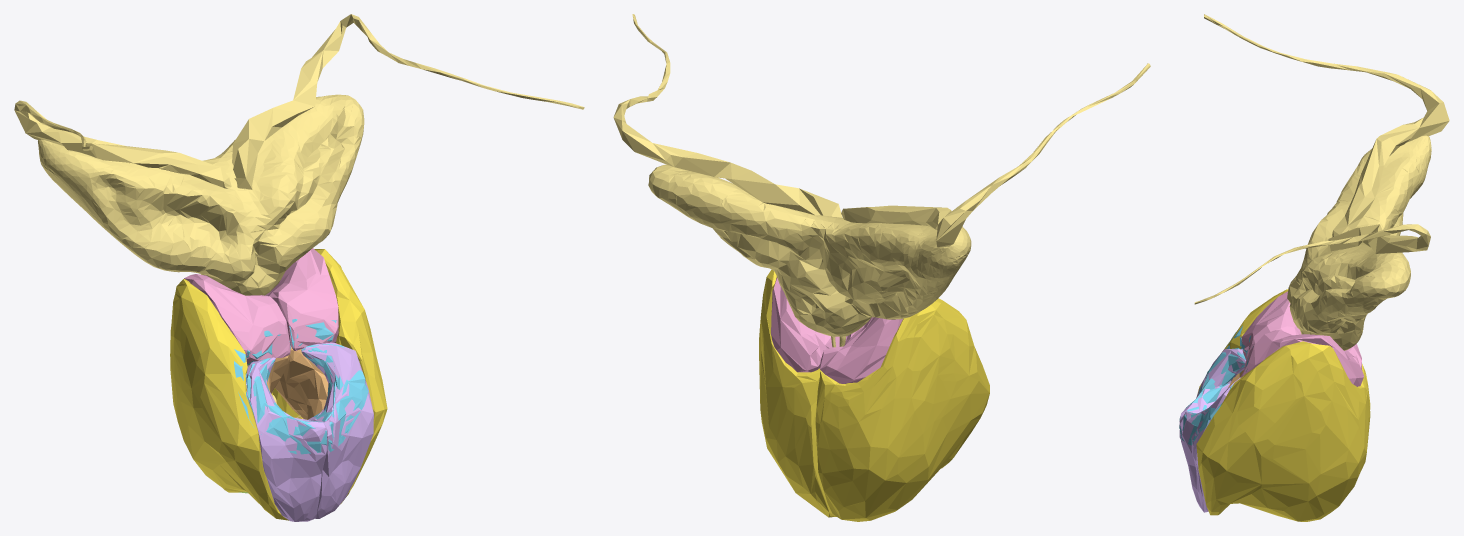
Rendered from organ-prostate.glb.
The picture shows the model from 3 angles, left to right: view 1: azimuth 30°, elevation 25°; view 2: azimuth 150°, elevation 25°; view 3: azimuth 270°, elevation 25°; orthographic projection. The views are drawn at different scales.
Parts seen in each view (by area): view 1: seminal-vesicle, peripheral-zone-of-prostate, anterior-fibromuscular-stroma, vas-deferens, central-zone-of-prostate, base-of-prostate, transition-zone-of-prostate; view 2: peripheral-zone-of-prostate, seminal-vesicle, vas-deferens, central-zone-of-prostate; view 3: peripheral-zone-of-prostate, seminal-vesicle, vas-deferens, central-zone-of-prostate, anterior-fibromuscular-stroma, base-of-prostate.
Part boxes in pixels (x1,y1,x2,y2): seminal-vesicle: [38, 94, 364, 295]; peripheral-zone-of-prostate: [170, 249, 387, 520]; anterior-fibromuscular-stroma: [246, 342, 373, 521]; vas-deferens: [14, 14, 584, 189]; central-zone-of-prostate: [184, 248, 338, 363]; base-of-prostate: [234, 319, 368, 454]; transition-zone-of-prostate: [247, 346, 328, 419]; peripheral-zone-of-prostate: [759, 269, 989, 521]; seminal-vesicle: [648, 164, 971, 336]; vas-deferens: [613, 14, 1150, 247]; central-zone-of-prostate: [771, 277, 902, 383]; peripheral-zone-of-prostate: [1196, 289, 1370, 521]; seminal-vesicle: [1287, 135, 1431, 350]; vas-deferens: [1194, 14, 1449, 304]; central-zone-of-prostate: [1240, 291, 1363, 386]; anterior-fibromuscular-stroma: [1179, 349, 1245, 512]; base-of-prostate: [1179, 325, 1253, 445].
Size of the model in its own units: 0.083 by 0.0707 by 0.0432.
